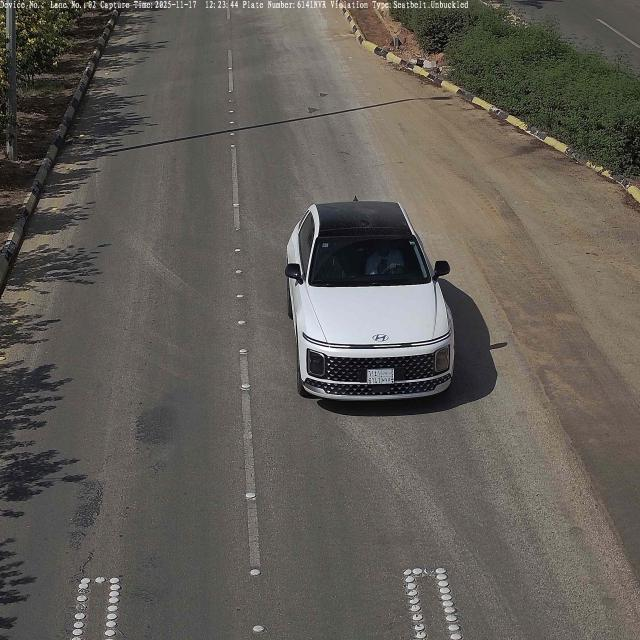person_without_seatbelt: (366, 239, 406, 277)
